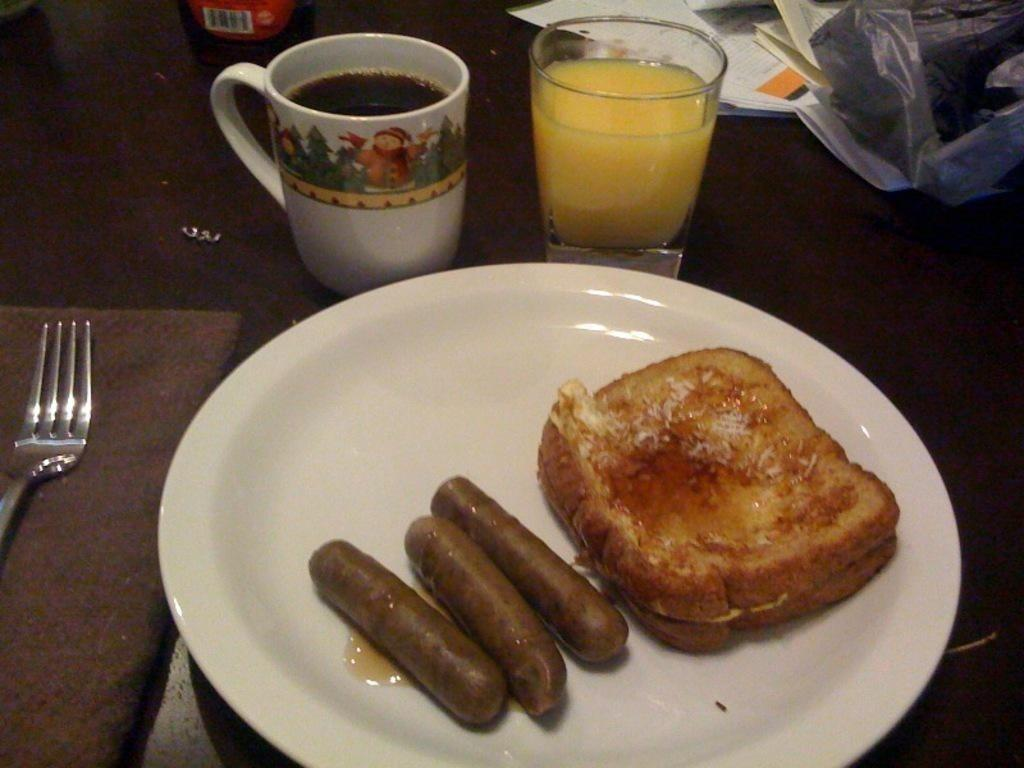cup-handle: (210, 32, 471, 294)
glass-normal: (527, 15, 729, 281)
